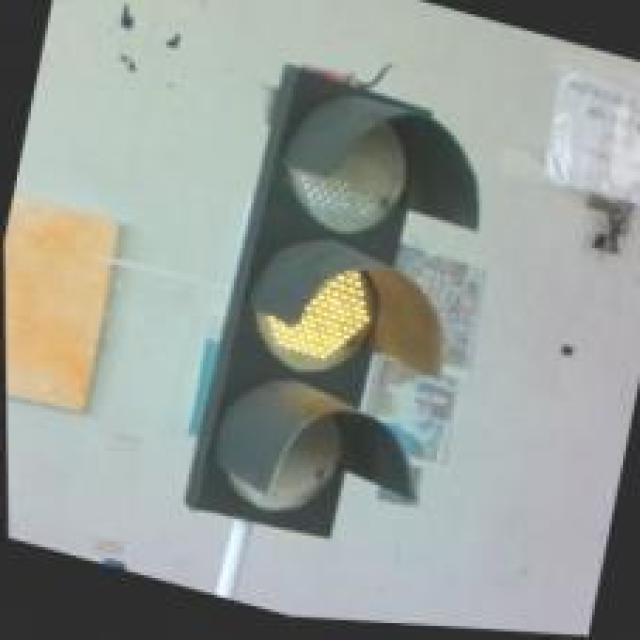yellow_light: (184, 63, 477, 536)
